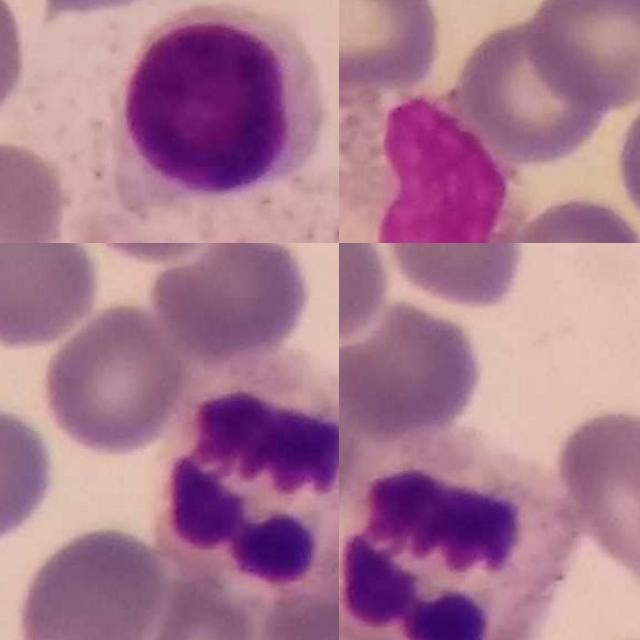Eosinophil: (339, 84, 516, 243)
Lymphocyte: (118, 5, 328, 199)
Neutrophil: (339, 428, 579, 640), (163, 350, 339, 599)
